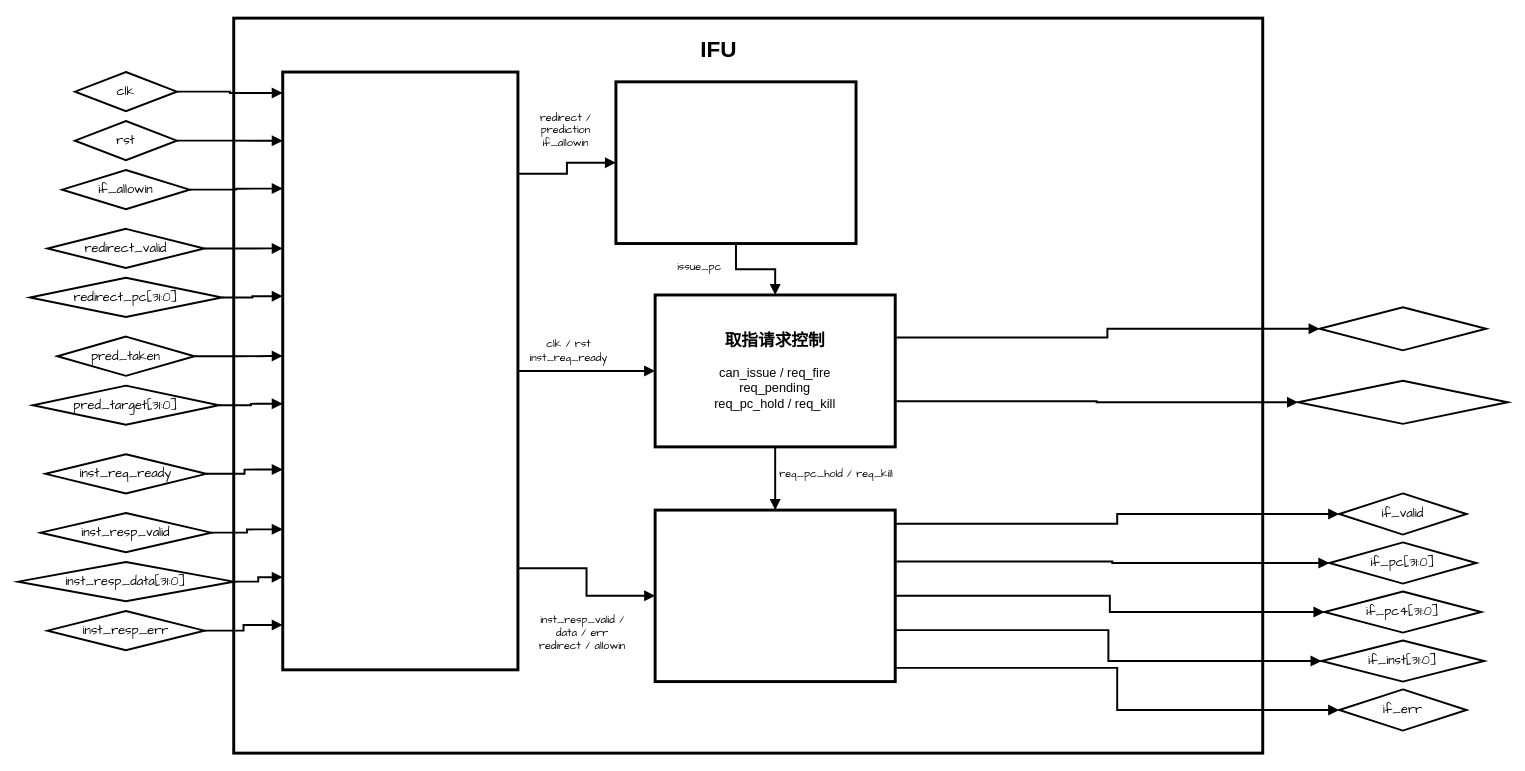
Some shapes in this 1525 by 771 pixel diagram are drawn without their labels. The shapes that lost their labels are listed below. From the top down, each one's box as (x1, y1, x2, y2) in pixels, then its label:
(614, 80, 857, 245): PC选择与下一地址生成 fetch_pc out_pc4 = out_pc + 4 pred_next_pc issue_pc
(1318, 306, 1487, 351): inst_req_valid
(281, 70, 519, 671): 输入与时序控制 时钟 / 复位 流水允许与重定向 分支预测输入 请求与响应握手 控制： 刷新、杀死、装载
(1297, 379, 1508, 424): inst_req_vaddr[31:0]
(653, 508, 896, 683): 响应接收与输出缓冲 out_valid / out_fire out_pc / out_inst / out_err 重定向刷新与无效响应丢弃
